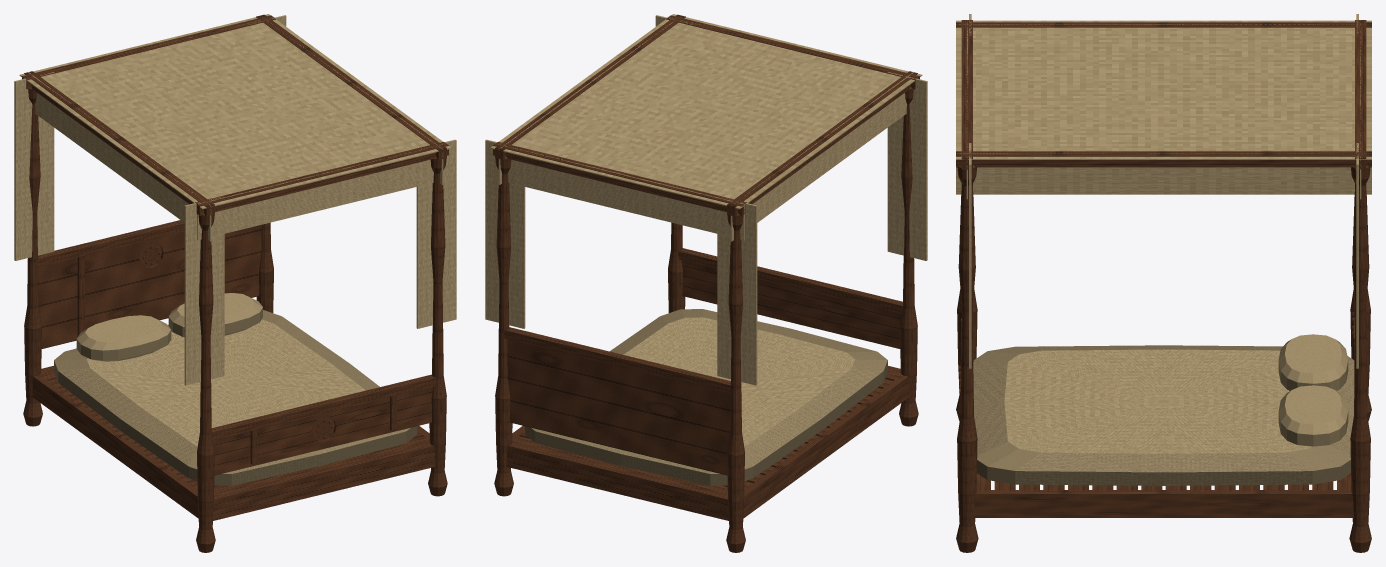
File: luxury_bed.obj
3 renders of one model, left to right at view 1: azimuth 30°, elevation 25°; view 2: azimuth 150°, elevation 25°; view 3: azimuth 270°, elevation 25°, orthographic. The views are drawn at different scales.
Parts seen in each view (by area): view 1: material_6, material_5, material_9, material_7, material_10, material_8; view 2: material_6, material_5, material_9, material_7; view 3: material_6, material_5, material_9, material_7, material_10, material_8.
Boxes of the visible parts, x1=… form: material_6: x1=14, y1=14, x2=456, y2=446; material_5: x1=22, y1=14, x2=448, y2=552; material_9: x1=54, y1=310, x2=410, y2=473; material_7: x1=54, y1=360, x2=416, y2=485; material_10: x1=77, y1=298, x2=262, y2=361; material_8: x1=76, y1=308, x2=262, y2=360; material_6: x1=485, y1=14, x2=927, y2=446; material_5: x1=493, y1=14, x2=919, y2=552; material_9: x1=531, y1=309, x2=887, y2=473; material_7: x1=525, y1=360, x2=887, y2=485; material_6: x1=956, y1=14, x2=1371, y2=453; material_5: x1=956, y1=20, x2=1371, y2=552; material_9: x1=973, y1=345, x2=1354, y2=472; material_7: x1=977, y1=460, x2=1350, y2=485; material_10: x1=1278, y1=339, x2=1347, y2=446; material_8: x1=1278, y1=360, x2=1348, y2=446.
Bounding box in the file's own units: 55.68 × 68.29 × 65.02.
Materials: 7 (7 with a texture image).
